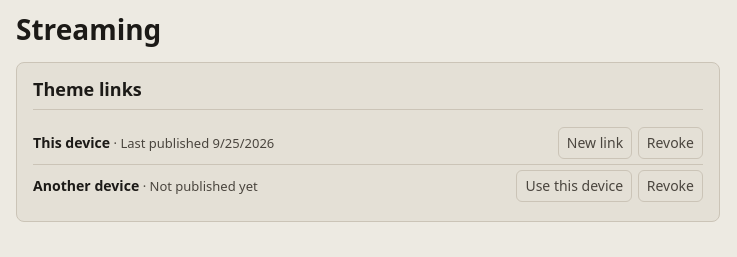
Test case: the account's theme links › asks once more before revoking, and Cancel leaves the link alone
The width and height of the screenshot is (737, 257).
Click the button "Revoke" in the row of "Last published 9/25/2026": {"x": 670, "y": 143} [638, 127, 703, 159]
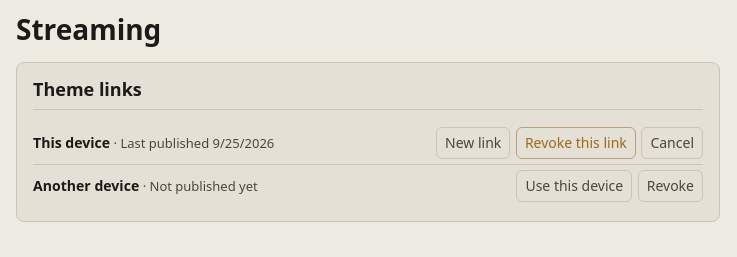
Click the button "Cancel": {"x": 672, "y": 143} [641, 127, 703, 159]
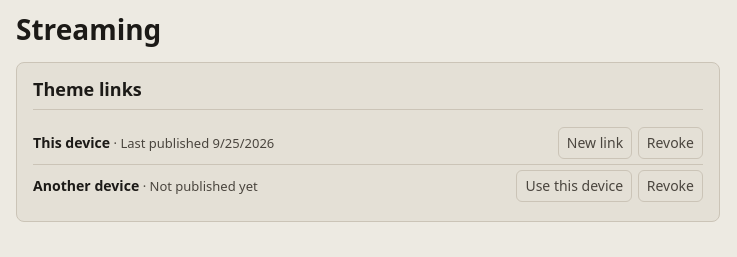
Click the button "Revoke" in the row of "Last published 9/25/2026": {"x": 670, "y": 143} [638, 127, 703, 159]
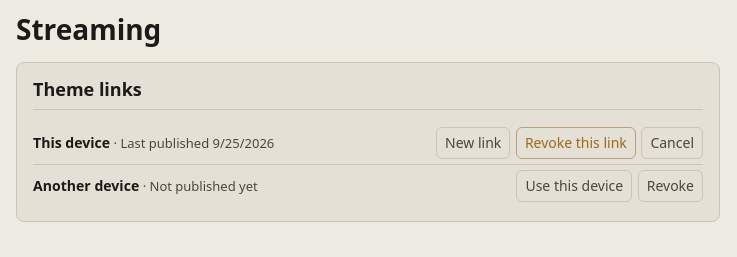
Click the button "Revoke this link": {"x": 576, "y": 143} [516, 127, 636, 159]
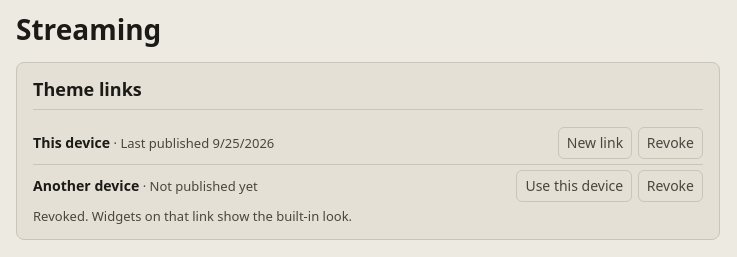
Expected: the text "Revoked. Widgets on that link show the built-in look." is shown, [33, 207, 352, 225]
